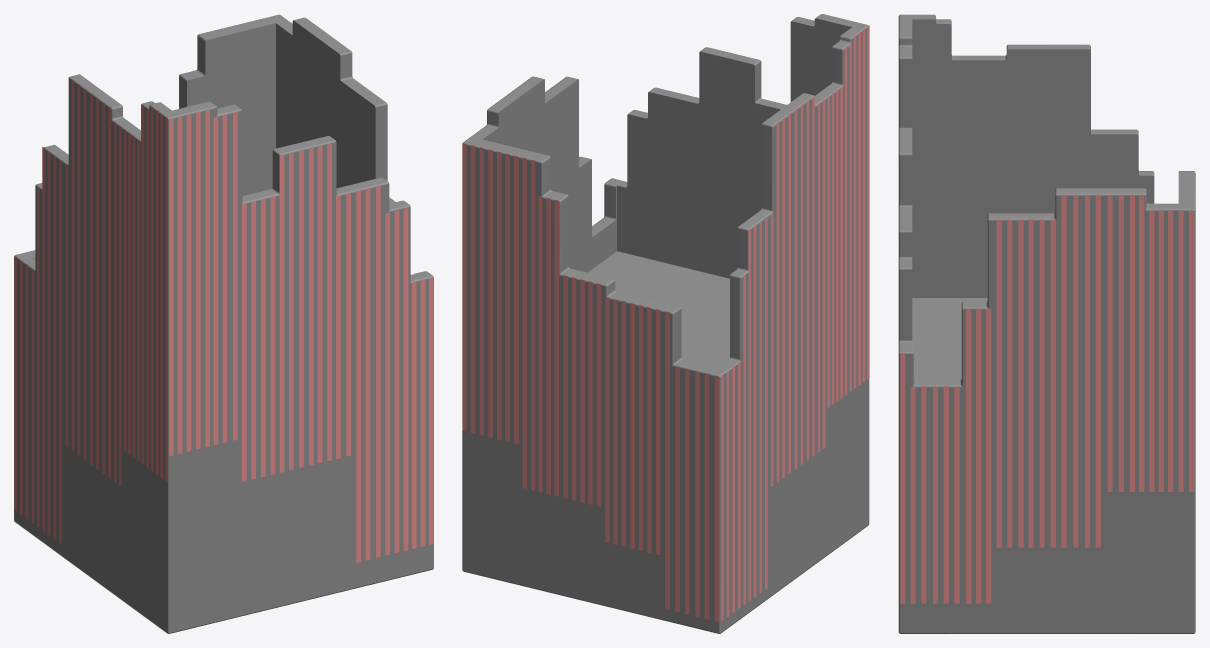
Rendered from S_Envi_Train_Box_01m.gltf.
3 views of the same model, side by side, from view 1: azimuth 30°, elevation 25°; view 2: azimuth 150°, elevation 25°; view 3: azimuth 270°, elevation 25° (orthographic). The views are drawn at different scales.
Visible parts, largest first — view 1: S_Envi_Train_Box_01m; view 2: S_Envi_Train_Box_01m; view 3: S_Envi_Train_Box_01m.
Part boxes in pixels (box(x1,y1,x2,y2)): S_Envi_Train_Box_01m: box(14, 14, 433, 633); S_Envi_Train_Box_01m: box(462, 14, 869, 633); S_Envi_Train_Box_01m: box(898, 14, 1195, 633).
Bounding box in the file's own units: 9.85 × 18.22 × 9.9.
